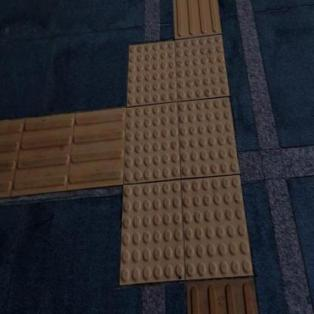Podoctatil: (103, 23, 276, 302), (0, 106, 124, 201), (188, 280, 254, 313), (176, 0, 220, 35)
